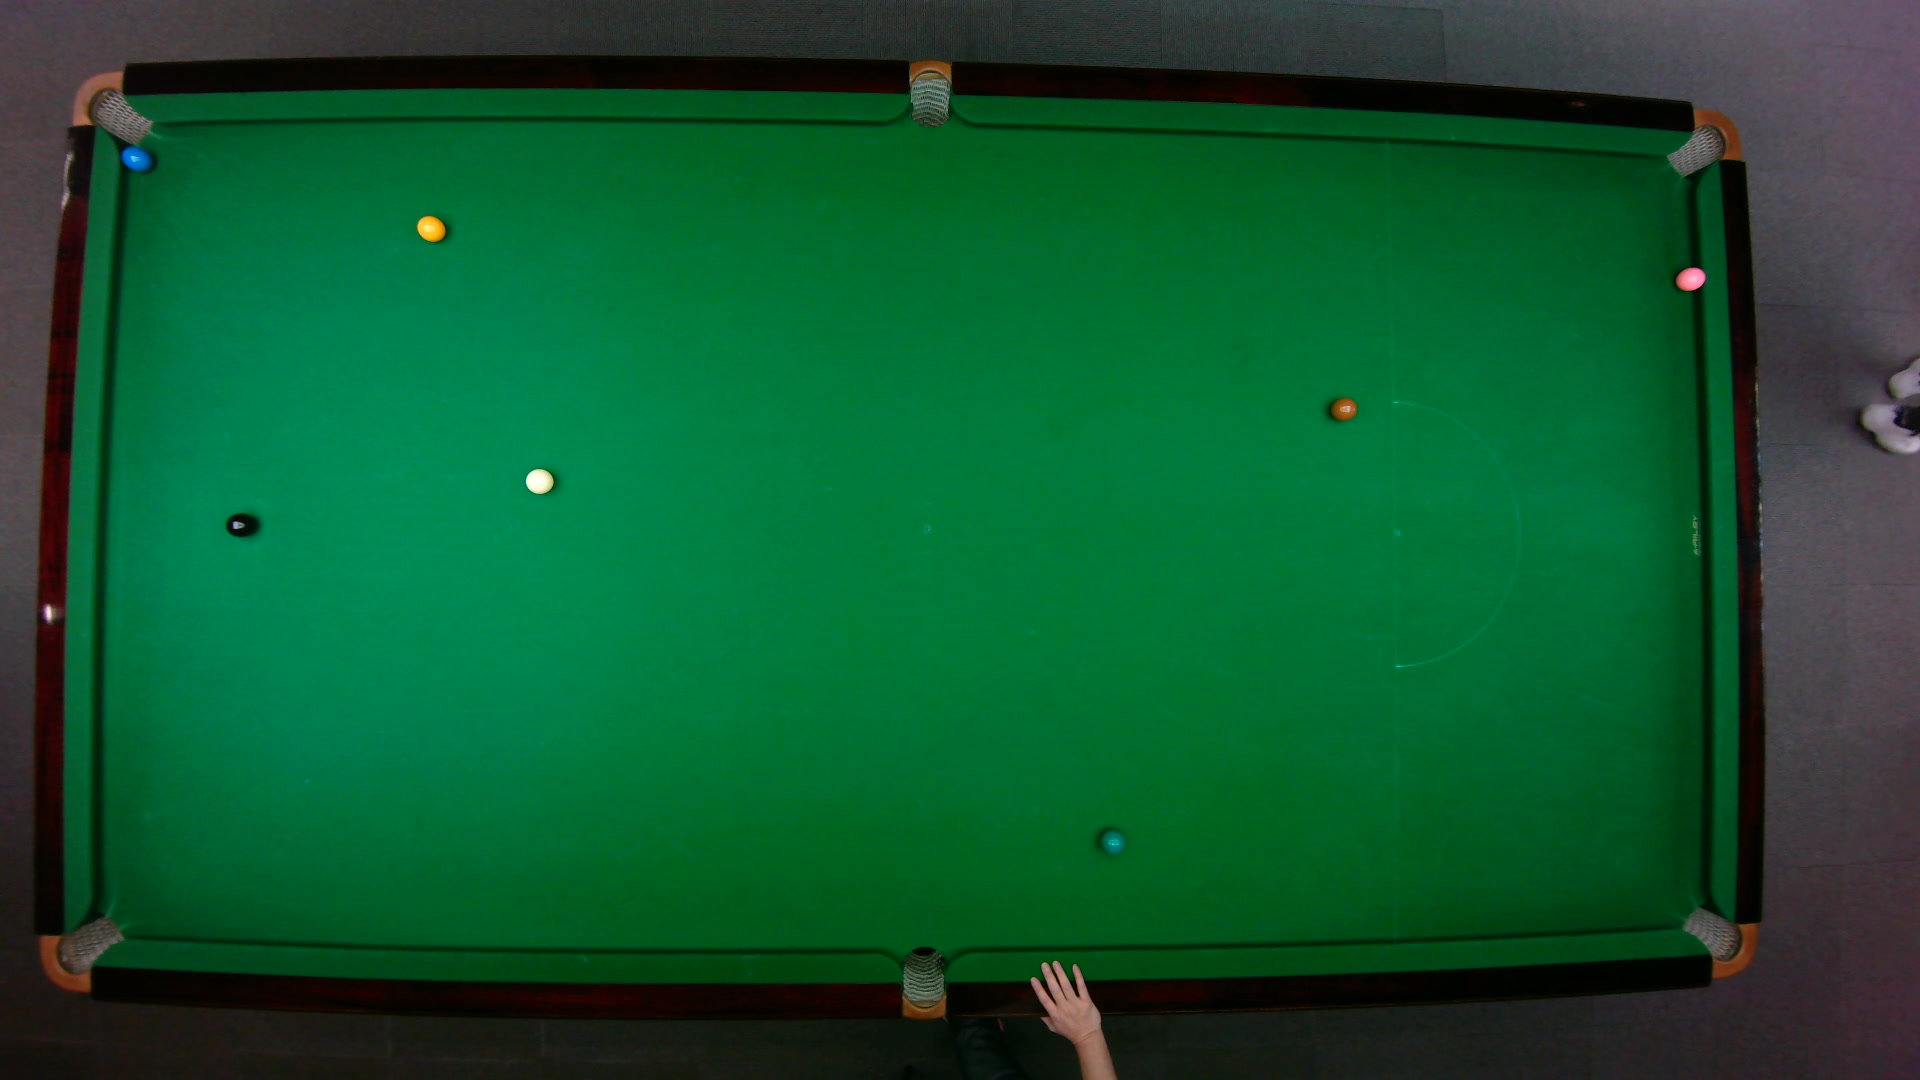bag: (37, 914, 125, 992), (69, 69, 153, 145), (1677, 905, 1756, 977), (1663, 107, 1742, 177), (901, 944, 944, 1021), (909, 57, 949, 128)
black: (223, 512, 256, 538)
blue: (117, 144, 153, 171)
brown: (1328, 396, 1360, 421)
green: (1097, 827, 1126, 855)
pink: (1673, 264, 1706, 291)
white: (524, 467, 554, 495)
yellow: (414, 212, 446, 243)
zone: (1390, 398, 1520, 669)
